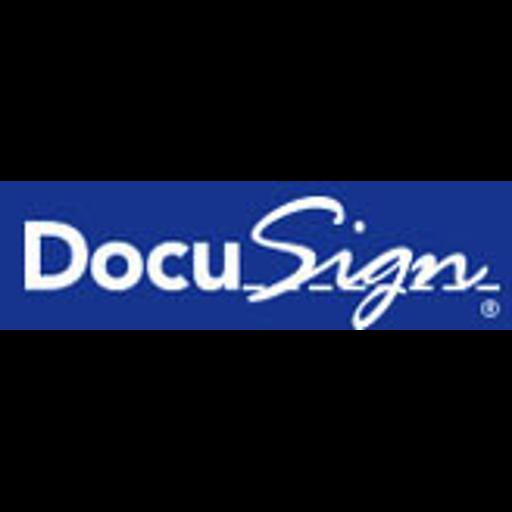DocuSign: (0, 181, 512, 330)
